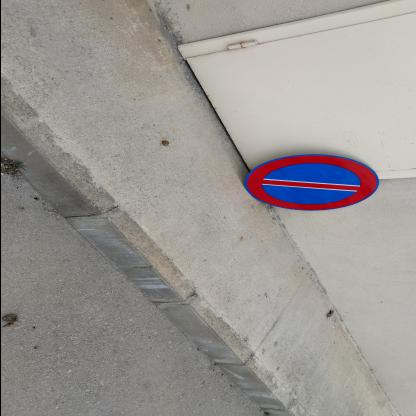No Waiting: (245, 155, 380, 212)
